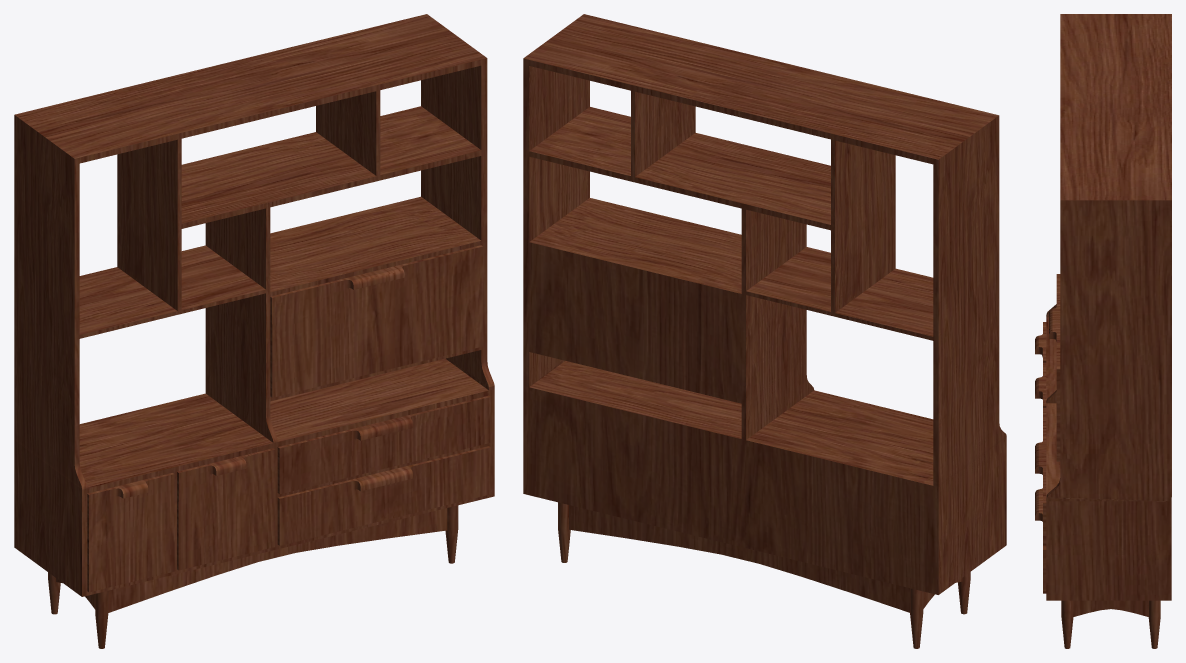
The model's file is dulap.fc167cb972.glb.
3 renders of one model, left to right at view 1: azimuth 30°, elevation 25°; view 2: azimuth 150°, elevation 25°; view 3: azimuth 270°, elevation 25°, orthographic. The views are drawn at different scales.
Visible parts, largest first — view 1: bokahilla_bokahilla1_0; view 2: bokahilla_bokahilla1_0; view 3: bokahilla_bokahilla1_0.
Part boxes in pixels (<box>): bokahilla_bokahilla1_0: <box>14,14,494,648</box>; bokahilla_bokahilla1_0: <box>523,14,1006,648</box>; bokahilla_bokahilla1_0: <box>1035,14,1171,648</box>.
Bounding box in the file's own units: 1.71 × 1.97 × 0.5293.
1 material, 1 textured.
